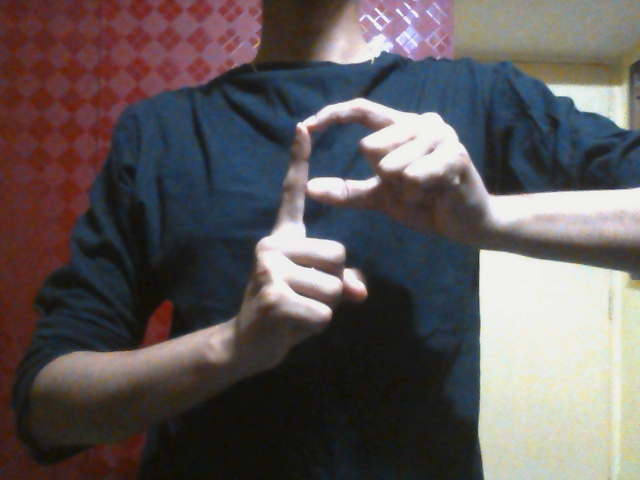P: (242, 95, 462, 369)
